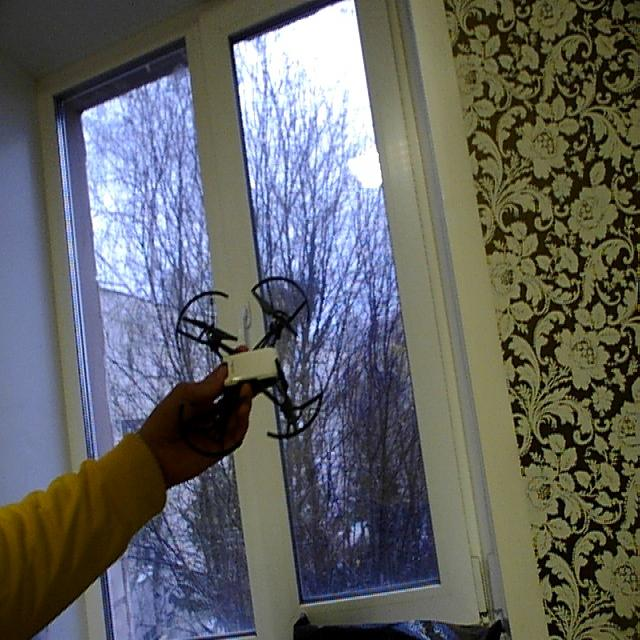drone: (172, 279, 330, 441)
